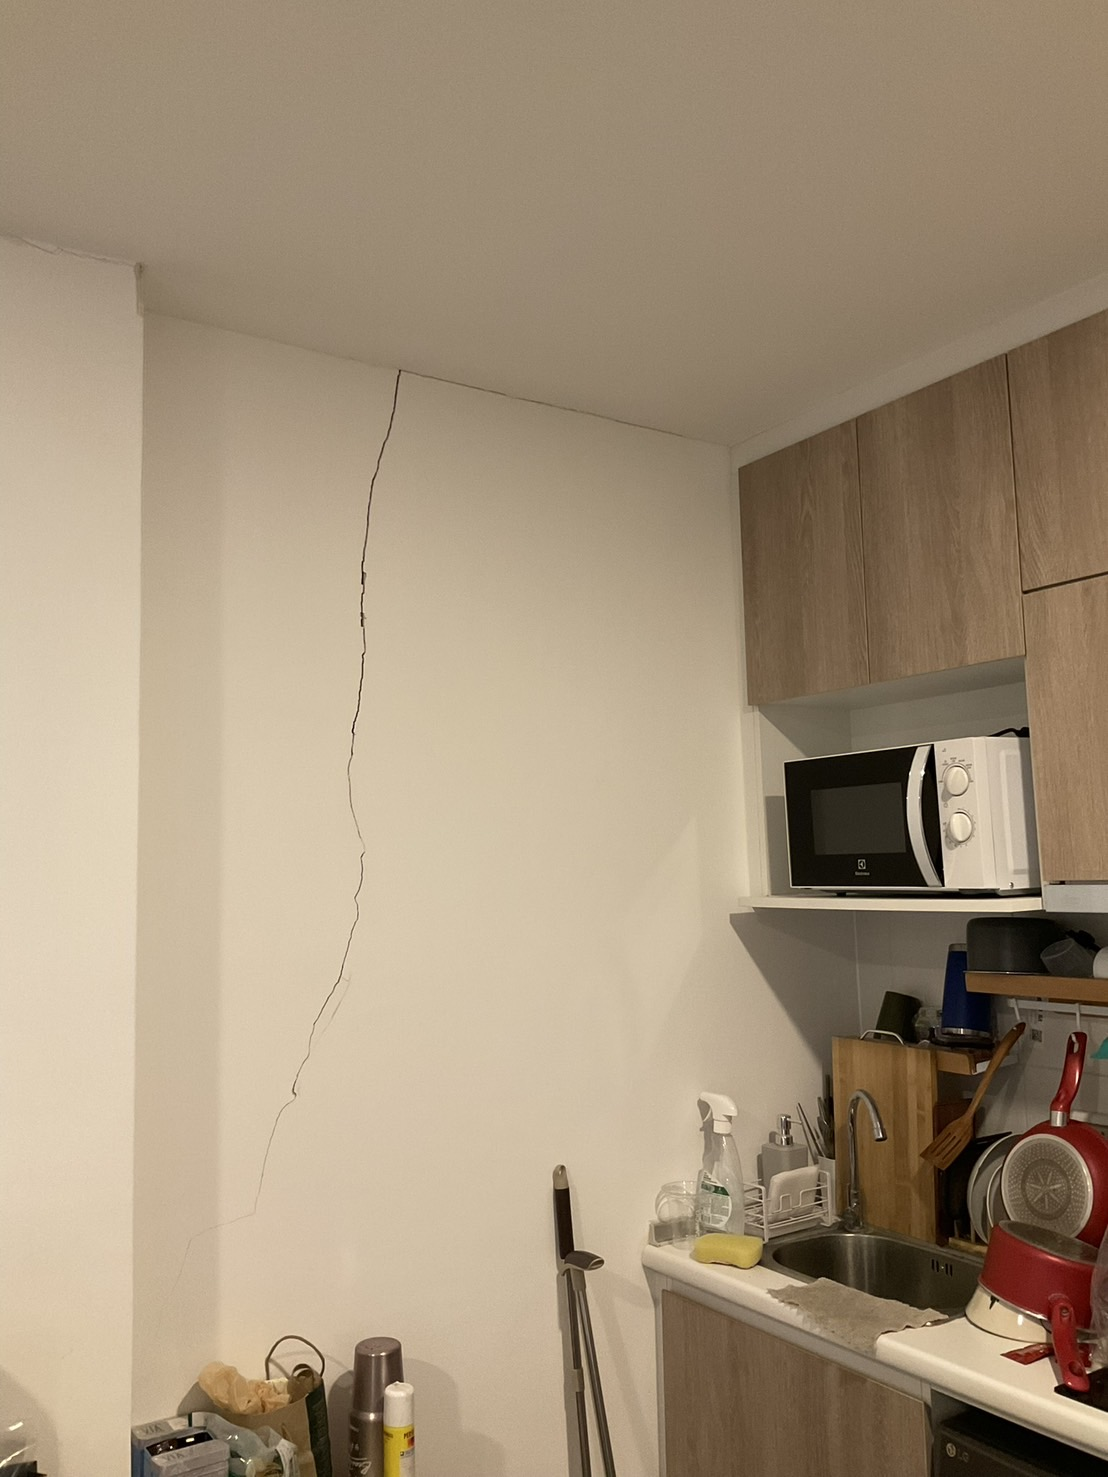Low: (163, 353, 454, 1304)
